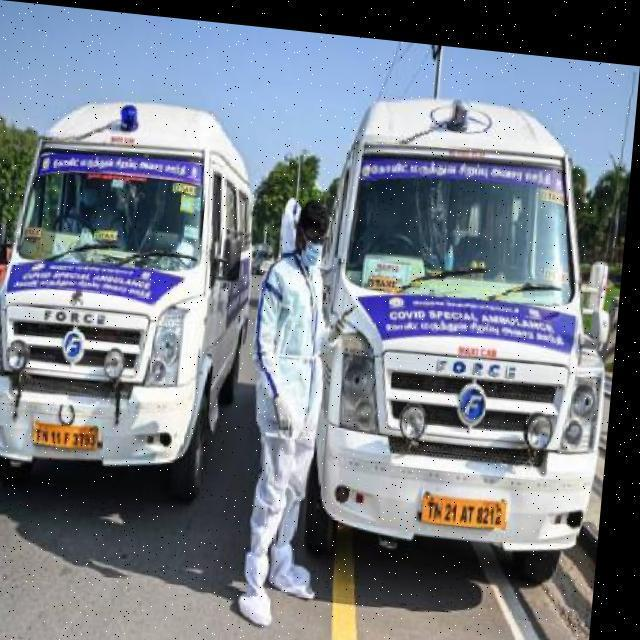Ambulance: (0, 43, 635, 586), (0, 284, 618, 640), (302, 76, 634, 578), (0, 83, 271, 506), (234, 185, 358, 628)
